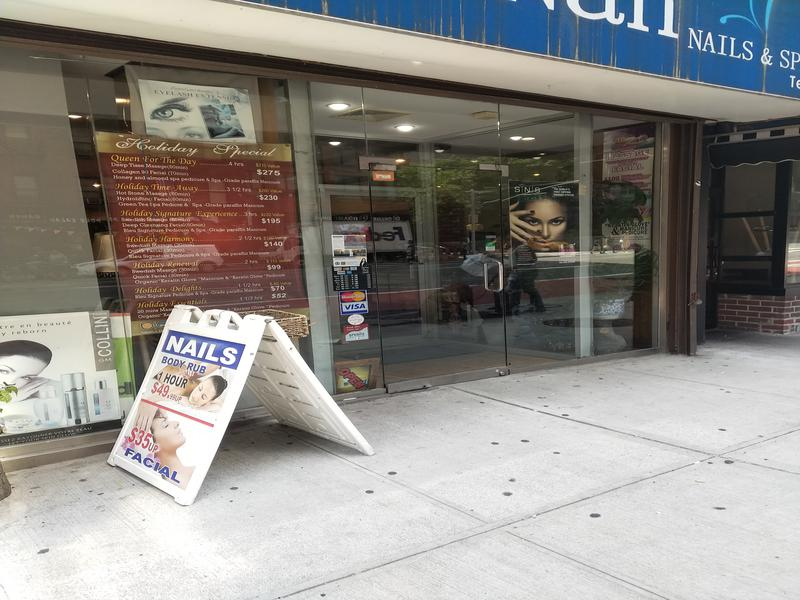door: (358, 152, 521, 386)
